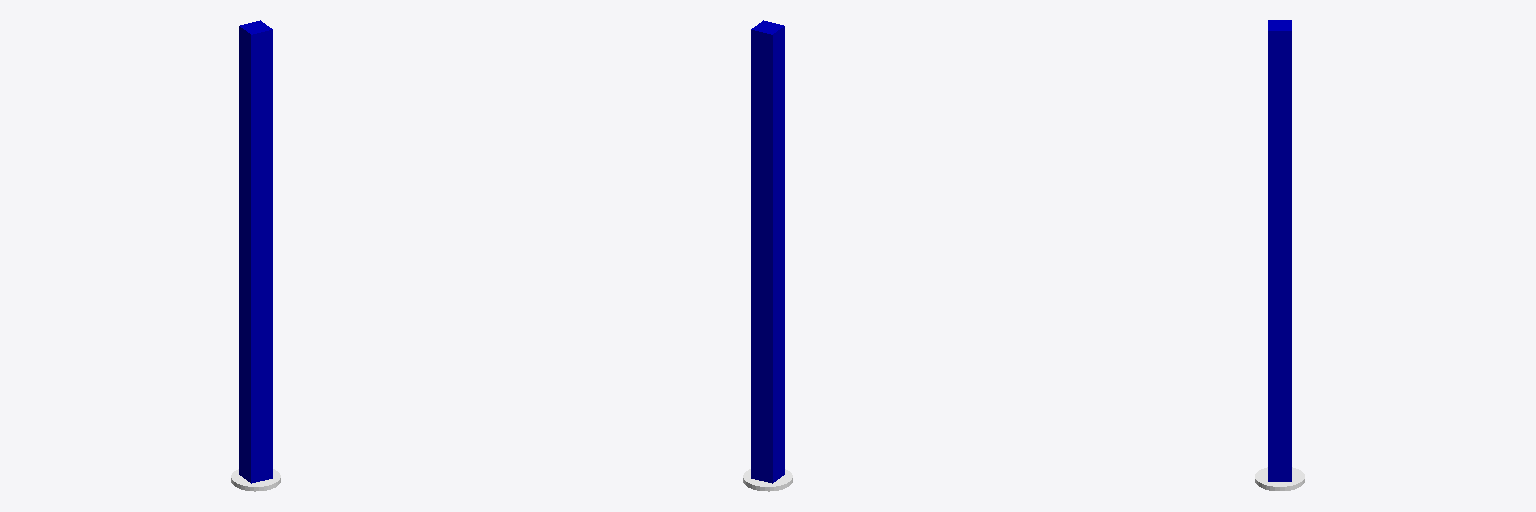
The robot description file, URDF, robot "spatial_22dof":
<?xml version="1.0" ?>
<robot name="spatial_22dof" xmlns:xacro="http://ros.org/wiki/xacro">
    <gazebo>
        <plugin filename="libgazebo_ros_control.so" name="ros_control" />
        <plugin name="gazebo_ros_control" filename="libgazebo_ros_control.so">
            <robotNamespace>/</robotNamespace>
        </plugin>
    </gazebo>
    <link name="base_link">
        <visual>
            <origin xyz="0 0 0" rpy="0 0 0" />
            <geometry>
                <cylinder length="0.01" radius="0.05" />
            </geometry>
            <material name="White">
                <color rgba="1.0 1.0 1.0 1.0" />
            </material>
        </visual>
    </link>
    <link name="link1">
        <visual>
            <origin xyz="0 0 0.05" rpy="0 0 0" />
            <geometry>
                <box size="0.05 0.05 0.1"/>
            </geometry>
            <material name="Blue">
                <color rgba="0.0 0.0 0.8 1.0" />
            </material>
        </visual>
        <collision>
            <origin xyz="0 0 0.05" rpy="0 0 0" />
            <geometry>
                <box size="0.05 0.05 0.1"/>
            </geometry>
        </collision>
        <inertial>
            <mass value="0.1" />
            <origin xyz="0 0 0" rpy="0 0 0" />
            <inertia ixx="0.03" iyy="0.03" izz="0.03" ixy="0.0" ixz="0.0" iyz="0.0" />
        </inertial>
    </link>
    <link name="link2">
        <visual>
            <origin xyz="0 0 0.0214286" rpy="0 0 0" />
            <geometry>
                <box size="0.05 0.05 0.042857"/>
            </geometry>
            <material name="Blue">
                <color rgba="0.0 0.0 0.8 1.0" />
            </material>
        </visual>
        <collision>
            <origin xyz="0 0 0.0214286" rpy="0 0 0" />
            <geometry>
                <box size="0.05 0.05 0.042857"/>
            </geometry>
        </collision>
        <inertial>
            <mass value="0.1" />
            <origin xyz="0 0 0" rpy="0 0 0" />
            <inertia ixx="0.03" iyy="0.03" izz="0.03" ixy="0.0" ixz="0.0" iyz="0.0" />
        </inertial>
    </link>
    <link name="link3">
        <visual>
            <origin xyz="0 0 0.0214286" rpy="0 0 0" />
            <geometry>
                <box size="0.05 0.05 0.042857"/>
            </geometry>
            <material name="Blue">
                <color rgba="0.0 0.0 0.8 1.0" />
            </material>
        </visual>
        <collision>
            <origin xyz="0 0 0.0214286" rpy="0 0 0" />
            <geometry>
                <box size="0.05 0.05 0.042857"/>
            </geometry>
        </collision>
        <inertial>
            <mass value="0.1" />
            <origin xyz="0 0 0" rpy="0 0 0" />
            <inertia ixx="0.03" iyy="0.03" izz="0.03" ixy="0.0" ixz="0.0" iyz="0.0" />
        </inertial>
    </link>
    <link name="link4">
        <visual>
            <origin xyz="0 0 0.0214286" rpy="0 0 0" />
            <geometry>
                <box size="0.05 0.05 0.042857"/>
            </geometry>
            <material name="Blue">
                <color rgba="0.0 0.0 0.8 1.0" />
            </material>
        </visual>
        <collision>
            <origin xyz="0 0 0.0214286" rpy="0 0 0" />
            <geometry>
                <box size="0.05 0.05 0.042857"/>
            </geometry>
        </collision>
        <inertial>
            <mass value="0.1" />
            <origin xyz="0 0 0" rpy="0 0 0" />
            <inertia ixx="0.03" iyy="0.03" izz="0.03" ixy="0.0" ixz="0.0" iyz="0.0" />
        </inertial>
    </link>
    <link name="link5">
        <visual>
            <origin xyz="0 0 0.0214286" rpy="0 0 0" />
            <geometry>
                <box size="0.05 0.05 0.042857"/>
            </geometry>
            <material name="Blue">
                <color rgba="0.0 0.0 0.8 1.0" />
            </material>
        </visual>
        <collision>
            <origin xyz="0 0 0.0214286" rpy="0 0 0" />
            <geometry>
                <box size="0.05 0.05 0.042857"/>
            </geometry>
        </collision>
        <inertial>
            <mass value="0.1" />
            <origin xyz="0 0 0" rpy="0 0 0" />
            <inertia ixx="0.03" iyy="0.03" izz="0.03" ixy="0.0" ixz="0.0" iyz="0.0" />
        </inertial>
    </link>
    <link name="link6">
        <visual>
            <origin xyz="0 0 0.0214286" rpy="0 0 0" />
            <geometry>
                <box size="0.05 0.05 0.042857"/>
            </geometry>
            <material name="Blue">
                <color rgba="0.0 0.0 0.8 1.0" />
            </material>
        </visual>
        <collision>
            <origin xyz="0 0 0.0214286" rpy="0 0 0" />
            <geometry>
                <box size="0.05 0.05 0.042857"/>
            </geometry>
        </collision>
        <inertial>
            <mass value="0.1" />
            <origin xyz="0 0 0" rpy="0 0 0" />
            <inertia ixx="0.03" iyy="0.03" izz="0.03" ixy="0.0" ixz="0.0" iyz="0.0" />
        </inertial>
    </link>
    <link name="link7">
        <visual>
            <origin xyz="0 0 0.0214286" rpy="0 0 0" />
            <geometry>
                <box size="0.05 0.05 0.042857"/>
            </geometry>
            <material name="Blue">
                <color rgba="0.0 0.0 0.8 1.0" />
            </material>
        </visual>
        <collision>
            <origin xyz="0 0 0.0214286" rpy="0 0 0" />
            <geometry>
                <box size="0.05 0.05 0.042857"/>
            </geometry>
        </collision>
        <inertial>
            <mass value="0.1" />
            <origin xyz="0 0 0" rpy="0 0 0" />
            <inertia ixx="0.03" iyy="0.03" izz="0.03" ixy="0.0" ixz="0.0" iyz="0.0" />
        </inertial>
    </link>
    <link name="link8">
        <visual>
            <origin xyz="0 0 0.0214286" rpy="0 0 0" />
            <geometry>
                <box size="0.05 0.05 0.042857"/>
            </geometry>
            <material name="Blue">
                <color rgba="0.0 0.0 0.8 1.0" />
            </material>
        </visual>
        <collision>
            <origin xyz="0 0 0.0214286" rpy="0 0 0" />
            <geometry>
                <box size="0.05 0.05 0.042857"/>
            </geometry>
        </collision>
        <inertial>
            <mass value="0.1" />
            <origin xyz="0 0 0" rpy="0 0 0" />
            <inertia ixx="0.03" iyy="0.03" izz="0.03" ixy="0.0" ixz="0.0" iyz="0.0" />
        </inertial>
    </link>
    <link name="link9">
        <visual>
            <origin xyz="0 0 0.0214286" rpy="0 0 0" />
            <geometry>
                <box size="0.05 0.05 0.042857"/>
            </geometry>
            <material name="Blue">
                <color rgba="0.0 0.0 0.8 1.0" />
            </material>
        </visual>
        <collision>
            <origin xyz="0 0 0.0214286" rpy="0 0 0" />
            <geometry>
                <box size="0.05 0.05 0.042857"/>
            </geometry>
        </collision>
        <inertial>
            <mass value="0.1" />
            <origin xyz="0 0 0" rpy="0 0 0" />
            <inertia ixx="0.03" iyy="0.03" izz="0.03" ixy="0.0" ixz="0.0" iyz="0.0" />
        </inertial>
    </link>
    <link name="link10">
        <visual>
            <origin xyz="0 0 0.0214286" rpy="0 0 0" />
            <geometry>
                <box size="0.05 0.05 0.042857"/>
            </geometry>
            <material name="Blue">
                <color rgba="0.0 0.0 0.8 1.0" />
            </material>
        </visual>
        <collision>
            <origin xyz="0 0 0.0214286" rpy="0 0 0" />
            <geometry>
                <box size="0.05 0.05 0.042857"/>
            </geometry>
        </collision>
        <inertial>
            <mass value="0.1" />
            <origin xyz="0 0 0" rpy="0 0 0" />
            <inertia ixx="0.03" iyy="0.03" izz="0.03" ixy="0.0" ixz="0.0" iyz="0.0" />
        </inertial>
    </link>
    <link name="link11">
        <visual>
            <origin xyz="0 0 0.0214286" rpy="0 0 0" />
            <geometry>
                <box size="0.05 0.05 0.042857"/>
            </geometry>
            <material name="Blue">
                <color rgba="0.0 0.0 0.8 1.0" />
            </material>
        </visual>
        <collision>
            <origin xyz="0 0 0.0214286" rpy="0 0 0" />
            <geometry>
                <box size="0.05 0.05 0.042857"/>
            </geometry>
        </collision>
        <inertial>
            <mass value="0.1" />
            <origin xyz="0 0 0" rpy="0 0 0" />
            <inertia ixx="0.03" iyy="0.03" izz="0.03" ixy="0.0" ixz="0.0" iyz="0.0" />
        </inertial>
    </link>
    <link name="link12">
        <visual>
            <origin xyz="0 0 0.0214286" rpy="0 0 0" />
            <geometry>
                <box size="0.05 0.05 0.042857"/>
            </geometry>
            <material name="Blue">
                <color rgba="0.0 0.0 0.8 1.0" />
            </material>
        </visual>
        <collision>
            <origin xyz="0 0 0.0214286" rpy="0 0 0" />
            <geometry>
                <box size="0.05 0.05 0.042857"/>
            </geometry>
        </collision>
        <inertial>
            <mass value="0.1" />
            <origin xyz="0 0 0" rpy="0 0 0" />
            <inertia ixx="0.03" iyy="0.03" izz="0.03" ixy="0.0" ixz="0.0" iyz="0.0" />
        </inertial>
    </link>
    <link name="link13">
        <visual>
            <origin xyz="0 0 0.0214286" rpy="0 0 0" />
            <geometry>
                <box size="0.05 0.05 0.042857"/>
            </geometry>
            <material name="Blue">
                <color rgba="0.0 0.0 0.8 1.0" />
            </material>
        </visual>
        <collision>
            <origin xyz="0 0 0.0214286" rpy="0 0 0" />
            <geometry>
                <box size="0.05 0.05 0.042857"/>
            </geometry>
        </collision>
        <inertial>
            <mass value="0.1" />
            <origin xyz="0 0 0" rpy="0 0 0" />
            <inertia ixx="0.03" iyy="0.03" izz="0.03" ixy="0.0" ixz="0.0" iyz="0.0" />
        </inertial>
    </link>
    <link name="link14">
        <visual>
            <origin xyz="0 0 0.0214286" rpy="0 0 0" />
            <geometry>
                <box size="0.05 0.05 0.042857"/>
            </geometry>
            <material name="Blue">
                <color rgba="0.0 0.0 0.8 1.0" />
            </material>
        </visual>
        <collision>
            <origin xyz="0 0 0.0214286" rpy="0 0 0" />
            <geometry>
                <box size="0.05 0.05 0.042857"/>
            </geometry>
        </collision>
        <inertial>
            <mass value="0.1" />
            <origin xyz="0 0 0" rpy="0 0 0" />
            <inertia ixx="0.03" iyy="0.03" izz="0.03" ixy="0.0" ixz="0.0" iyz="0.0" />
        </inertial>
    </link>
    <link name="link15">
        <visual>
            <origin xyz="0 0 0.0214286" rpy="0 0 0" />
            <geometry>
                <box size="0.05 0.05 0.042857"/>
            </geometry>
            <material name="Blue">
                <color rgba="0.0 0.0 0.8 1.0" />
            </material>
        </visual>
        <collision>
            <origin xyz="0 0 0.0214286" rpy="0 0 0" />
            <geometry>
                <box size="0.05 0.05 0.042857"/>
            </geometry>
        </collision>
        <inertial>
            <mass value="0.1" />
            <origin xyz="0 0 0" rpy="0 0 0" />
            <inertia ixx="0.03" iyy="0.03" izz="0.03" ixy="0.0" ixz="0.0" iyz="0.0" />
        </inertial>
    </link>
    <link name="link16">
        <visual>
            <origin xyz="0 0 0.0214286" rpy="0 0 0" />
            <geometry>
                <box size="0.05 0.05 0.042857"/>
            </geometry>
            <material name="Blue">
                <color rgba="0.0 0.0 0.8 1.0" />
            </material>
        </visual>
        <collision>
            <origin xyz="0 0 0.0214286" rpy="0 0 0" />
            <geometry>
                <box size="0.05 0.05 0.042857"/>
            </geometry>
        </collision>
        <inertial>
            <mass value="0.1" />
            <origin xyz="0 0 0" rpy="0 0 0" />
            <inertia ixx="0.03" iyy="0.03" izz="0.03" ixy="0.0" ixz="0.0" iyz="0.0" />
        </inertial>
    </link>
    <link name="link17">
        <visual>
            <origin xyz="0 0 0.0214286" rpy="0 0 0" />
            <geometry>
                <box size="0.05 0.05 0.042857"/>
            </geometry>
            <material name="Blue">
                <color rgba="0.0 0.0 0.8 1.0" />
            </material>
        </visual>
        <collision>
            <origin xyz="0 0 0.0214286" rpy="0 0 0" />
            <geometry>
                <box size="0.05 0.05 0.042857"/>
            </geometry>
        </collision>
        <inertial>
            <mass value="0.1" />
            <origin xyz="0 0 0" rpy="0 0 0" />
            <inertia ixx="0.03" iyy="0.03" izz="0.03" ixy="0.0" ixz="0.0" iyz="0.0" />
        </inertial>
    </link>
    <link name="link18">
        <visual>
            <origin xyz="0 0 0.0214286" rpy="0 0 0" />
            <geometry>
                <box size="0.05 0.05 0.042857"/>
            </geometry>
            <material name="Blue">
                <color rgba="0.0 0.0 0.8 1.0" />
            </material>
        </visual>
        <collision>
            <origin xyz="0 0 0.0214286" rpy="0 0 0" />
            <geometry>
                <box size="0.05 0.05 0.042857"/>
            </geometry>
        </collision>
        <inertial>
            <mass value="0.1" />
            <origin xyz="0 0 0" rpy="0 0 0" />
            <inertia ixx="0.03" iyy="0.03" izz="0.03" ixy="0.0" ixz="0.0" iyz="0.0" />
        </inertial>
    </link>
    <link name="link19">
        <visual>
            <origin xyz="0 0 0.0214286" rpy="0 0 0" />
            <geometry>
                <box size="0.05 0.05 0.042857"/>
            </geometry>
            <material name="Blue">
                <color rgba="0.0 0.0 0.8 1.0" />
            </material>
        </visual>
        <collision>
            <origin xyz="0 0 0.0214286" rpy="0 0 0" />
            <geometry>
                <box size="0.05 0.05 0.042857"/>
            </geometry>
        </collision>
        <inertial>
            <mass value="0.1" />
            <origin xyz="0 0 0" rpy="0 0 0" />
            <inertia ixx="0.03" iyy="0.03" izz="0.03" ixy="0.0" ixz="0.0" iyz="0.0" />
        </inertial>
    </link>
    <link name="link20">
        <visual>
            <origin xyz="0 0 0.0214286" rpy="0 0 0" />
            <geometry>
                <box size="0.05 0.05 0.042857"/>
            </geometry>
            <material name="Blue">
                <color rgba="0.0 0.0 0.8 1.0" />
            </material>
        </visual>
        <collision>
            <origin xyz="0 0 0.0214286" rpy="0 0 0" />
            <geometry>
                <box size="0.05 0.05 0.042857"/>
            </geometry>
        </collision>
        <inertial>
            <mass value="0.1" />
            <origin xyz="0 0 0" rpy="0 0 0" />
            <inertia ixx="0.03" iyy="0.03" izz="0.03" ixy="0.0" ixz="0.0" iyz="0.0" />
        </inertial>
    </link>
    <link name="link21">
        <visual>
            <origin xyz="0 0 0.0214286" rpy="0 0 0" />
            <geometry>
                <box size="0.05 0.05 0.042857"/>
            </geometry>
            <material name="Blue">
                <color rgba="0.0 0.0 0.8 1.0" />
            </material>
        </visual>
        <collision>
            <origin xyz="0 0 0.0214286" rpy="0 0 0" />
            <geometry>
                <box size="0.05 0.05 0.042857"/>
            </geometry>
        </collision>
        <inertial>
            <mass value="0.1" />
            <origin xyz="0 0 0" rpy="0 0 0" />
            <inertia ixx="0.03" iyy="0.03" izz="0.03" ixy="0.0" ixz="0.0" iyz="0.0" />
        </inertial>
    </link>
    <link name="link22">
        <visual>
            <origin xyz="0 0 0.0214286" rpy="0 0 0" />
            <geometry>
                <box size="0.05 0.05 0.042857"/>
            </geometry>
            <material name="Blue">
                <color rgba="0.0 0.0 0.8 1.0" />
            </material>
        </visual>
        <collision>
            <origin xyz="0 0 0.0214286" rpy="0 0 0" />
            <geometry>
                <box size="0.05 0.05 0.042857"/>
            </geometry>
        </collision>
        <inertial>
            <mass value="0.1" />
            <origin xyz="0 0 0" rpy="0 0 0" />
            <inertia ixx="0.03" iyy="0.03" izz="0.03" ixy="0.0" ixz="0.0" iyz="0.0" />
        </inertial>
    </link>
    <link name="tool" />
    
    <!-- Joints -->
    <joint name="joint1" type="revolute">
        <limit effort="30" velocity="3.14159" lower="-3.14159" upper="3.14159" />
        <parent link="base_link" />
        <child link="link1" />
        <origin xyz="0 0 0" rpy="0 0 0" />
        <axis xyz="0 0 1" />
    </joint>
    <joint name="joint2" type="revolute">
        <limit effort="30" velocity="3.14159" lower="-3.14159" upper="3.14159" />
        <parent link="link1" />
        <child link="link2" />
        <origin xyz="0 0 0.1" rpy="0 0 0" />
        <axis xyz="1 0 0" />
    </joint>
    <joint name="joint3" type="revolute">
        <limit effort="30" velocity="3.14159" lower="-3.14159" upper="3.14159" />
        <parent link="link2" />
        <child link="link3" />
        <origin xyz="0 0 0.042857" rpy="0 0 0" />
        <axis xyz="1 0 0" />
    </joint>
    <joint name="joint4" type="revolute">
        <limit effort="30" velocity="3.14159" lower="-3.14159" upper="3.14159" />
        <parent link="link3" />
        <child link="link4" />
        <origin xyz="0 0 0.042857" rpy="0 0 0" />
        <axis xyz="1 0 0" />
    </joint>
    <joint name="joint5" type="revolute">
        <limit effort="30" velocity="3.14159" lower="-3.14159" upper="3.14159" />
        <parent link="link4" />
        <child link="link5" />
        <origin xyz="0 0 0.042857" rpy="0 0 0" />
        <axis xyz="1 0 0" />
    </joint>
    <joint name="joint6" type="revolute">
        <limit effort="30" velocity="3.14159" lower="-3.14159" upper="3.14159" />
        <parent link="link5" />
        <child link="link6" />
        <origin xyz="0 0 0.042857" rpy="0 0 0" />
        <axis xyz="1 0 0" />
    </joint>
    <joint name="joint7" type="revolute">
        <limit effort="30" velocity="3.14159" lower="-3.14159" upper="3.14159" />
        <parent link="link6" />
        <child link="link7" />
        <origin xyz="0 0 0.042857" rpy="0 0 0" />
        <axis xyz="1 0 0" />
    </joint>
    <joint name="joint8" type="revolute">
        <limit effort="30" velocity="3.14159" lower="-3.14159" upper="3.14159" />
        <parent link="link7" />
        <child link="link8" />
        <origin xyz="0 0 0.042857" rpy="0 0 0" />
        <axis xyz="1 0 0" />
    </joint>
    <joint name="joint9" type="revolute">
        <limit effort="30" velocity="3.14159" lower="-3.14159" upper="3.14159" />
        <parent link="link8" />
        <child link="link9" />
        <origin xyz="0 0 0.042857" rpy="0 0 0" />
        <axis xyz="1 0 0" />
    </joint>
    <joint name="joint10" type="revolute">
        <limit effort="30" velocity="3.14159" lower="-3.14159" upper="3.14159" />
        <parent link="link9" />
        <child link="link10" />
        <origin xyz="0 0 0.042857" rpy="0 0 0" />
        <axis xyz="1 0 0" />
    </joint>
    <joint name="joint11" type="revolute">
        <limit effort="30" velocity="3.14159" lower="-3.14159" upper="3.14159" />
        <parent link="link10" />
        <child link="link11" />
        <origin xyz="0 0 0.042857" rpy="0 0 0" />
        <axis xyz="1 0 0" />
    </joint>
    <joint name="joint12" type="revolute">
        <limit effort="30" velocity="3.14159" lower="-3.14159" upper="3.14159" />
        <parent link="link11" />
        <child link="link12" />
        <origin xyz="0 0 0.042857" rpy="0 0 0" />
        <axis xyz="1 0 0" />
    </joint>
    <joint name="joint13" type="revolute">
        <limit effort="30" velocity="3.14159" lower="-3.14159" upper="3.14159" />
        <parent link="link12" />
        <child link="link13" />
        <origin xyz="0 0 0.042857" rpy="0 0 0" />
        <axis xyz="1 0 0" />
    </joint>
    <joint name="joint14" type="revolute">
        <limit effort="30" velocity="3.14159" lower="-3.14159" upper="3.14159" />
        <parent link="link13" />
        <child link="link14" />
        <origin xyz="0 0 0.042857" rpy="0 0 0" />
        <axis xyz="1 0 0" />
    </joint>
    <joint name="joint15" type="revolute">
        <limit effort="30" velocity="3.14159" lower="-3.14159" upper="3.14159" />
        <parent link="link14" />
        <child link="link15" />
        <origin xyz="0 0 0.042857" rpy="0 0 0" />
        <axis xyz="1 0 0" />
    </joint>
    <joint name="joint16" type="revolute">
        <limit effort="30" velocity="3.14159" lower="-3.14159" upper="3.14159" />
        <parent link="link15" />
        <child link="link16" />
        <origin xyz="0 0 0.042857" rpy="0 0 0" />
        <axis xyz="1 0 0" />
    </joint>
    <joint name="joint17" type="revolute">
        <limit effort="30" velocity="3.14159" lower="-3.14159" upper="3.14159" />
        <parent link="link16" />
        <child link="link17" />
        <origin xyz="0 0 0.042857" rpy="0 0 0" />
        <axis xyz="1 0 0" />
    </joint>
    <joint name="joint18" type="revolute">
        <limit effort="30" velocity="3.14159" lower="-3.14159" upper="3.14159" />
        <parent link="link17" />
        <child link="link18" />
        <origin xyz="0 0 0.042857" rpy="0 0 0" />
        <axis xyz="1 0 0" />
    </joint>
    <joint name="joint19" type="revolute">
        <limit effort="30" velocity="3.14159" lower="-3.14159" upper="3.14159" />
        <parent link="link18" />
        <child link="link19" />
        <origin xyz="0 0 0.042857" rpy="0 0 0" />
        <axis xyz="1 0 0" />
    </joint>
    <joint name="joint20" type="revolute">
        <limit effort="30" velocity="3.14159" lower="-3.14159" upper="3.14159" />
        <parent link="link19" />
        <child link="link20" />
        <origin xyz="0 0 0.042857" rpy="0 0 0" />
        <axis xyz="1 0 0" />
    </joint>
    <joint name="joint21" type="revolute">
        <limit effort="30" velocity="3.14159" lower="-3.14159" upper="3.14159" />
        <parent link="link20" />
        <child link="link21" />
        <origin xyz="0 0 0.042857" rpy="0 0 0" />
        <axis xyz="1 0 0" />
    </joint>
    <joint name="joint22" type="revolute">
        <limit effort="30" velocity="3.14159" lower="-3.14159" upper="3.14159" />
        <parent link="link21" />
        <child link="link22" />
        <origin xyz="0 0 0.042857" rpy="0 0 0" />
        <axis xyz="1 0 0" />
    </joint>
    <joint name="ee" type="fixed">
        <parent link="link22" />
        <child link="tool" />
        <limit effort="30" velocity="3.14159" lower="-6.28318" upper="6.28318" />
        <origin xyz="0 0 0.042857" rpy="0 0 0" />
        <axis xyz="0 0 1" />
    </joint>
</robot>

--- What the picture shows (computed from the rendered views, not written in the file) ---
3 views of the same robot in one strip: view 1: azimuth 30°, elevation 25°; view 2: azimuth 150°, elevation 25°; view 3: azimuth 270°, elevation 25° (orthographic).
Robot: spatial_22dof — 24 links, 23 joints (22 revolute, 1 fixed); root link base_link; default pose: every joint at zero.
Links seen in each view (by area): view 1: link1, link22, link21, link15, link18, link3, link6, link9, link12, link2, link4, link5 (+11 smaller); view 2: link1, link22, link21, link15, link18, link3, link6, link9, link12, link2, link4, link5 (+11 smaller); view 3: link1, link22, base_link.
Link boxes in pixels (x1,y1,x2,y2): link1: [239, 432, 272, 483]; link22: [239, 20, 272, 53]; link21: [239, 45, 272, 73]; link15: [239, 161, 272, 188]; link18: [239, 103, 272, 130]; link3: [239, 393, 272, 420]; link6: [239, 335, 272, 362]; link9: [239, 277, 272, 304]; link12: [239, 219, 272, 246]; link2: [239, 413, 272, 440]; link4: [239, 374, 272, 401]; link5: [239, 355, 272, 382]; link1: [751, 432, 784, 483]; link22: [751, 20, 784, 53]; link21: [751, 45, 784, 73]; link15: [751, 161, 784, 188]; link18: [751, 103, 784, 130]; link3: [751, 393, 784, 420]; link6: [751, 335, 784, 362]; link9: [751, 277, 784, 304]; link12: [751, 219, 784, 246]; link2: [751, 413, 784, 440]; link4: [751, 374, 784, 401]; link5: [751, 355, 784, 382]; link1: [1268, 439, 1291, 481]; link22: [1268, 20, 1291, 49]; base_link: [1255, 467, 1304, 490].
Bounding box of the posed robot: 0.1 × 0.1 × 1 m (x, y, z).
Geometry: primitives only (box / cylinder / sphere), no mesh files.